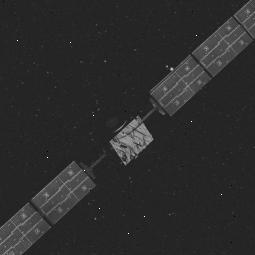smart_1: (64, 95, 164, 200)
